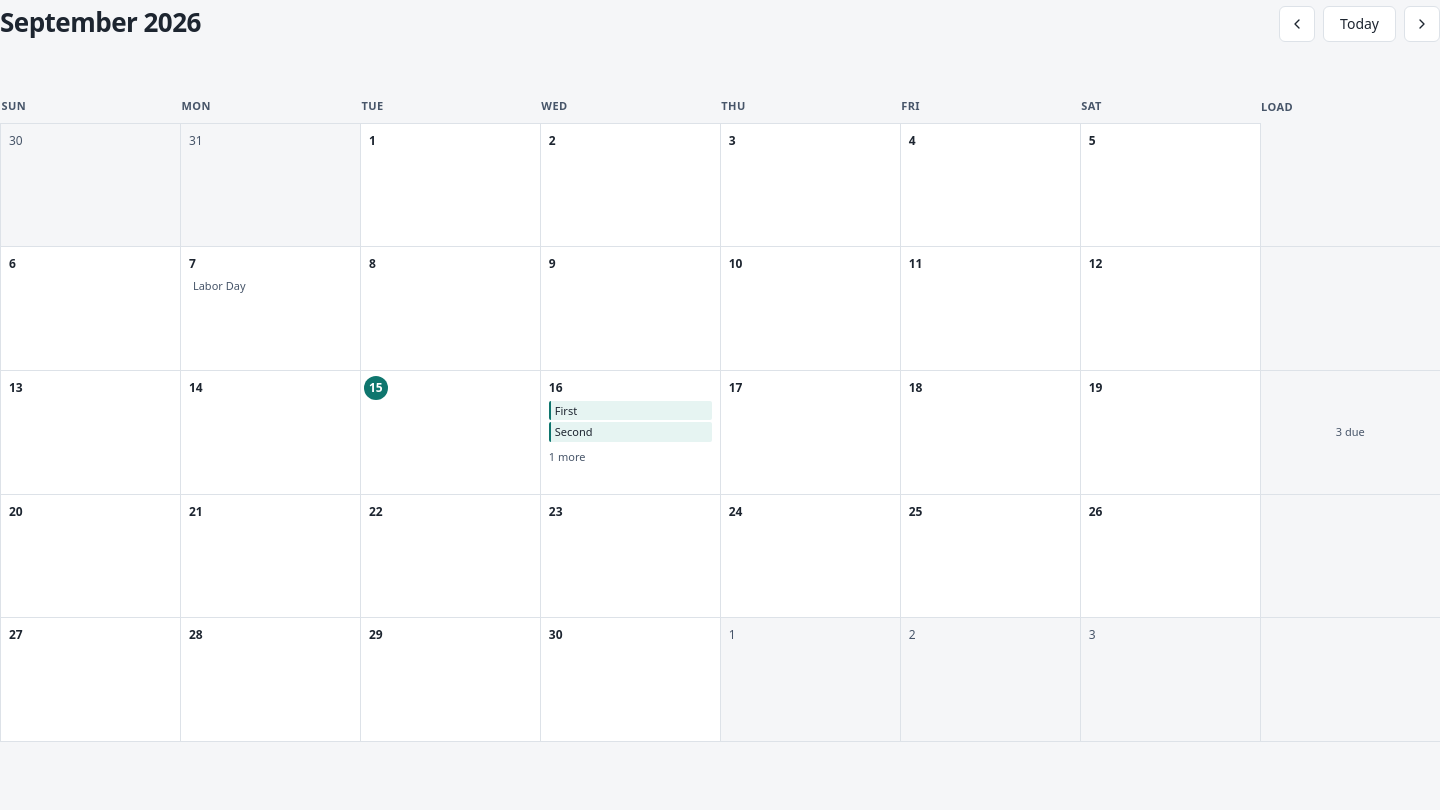
Test: AC-41.2 "more" opens the day and lists everything due on it
Click the button "1 more" at x=567, y=457, box 549,449 -> 585,465
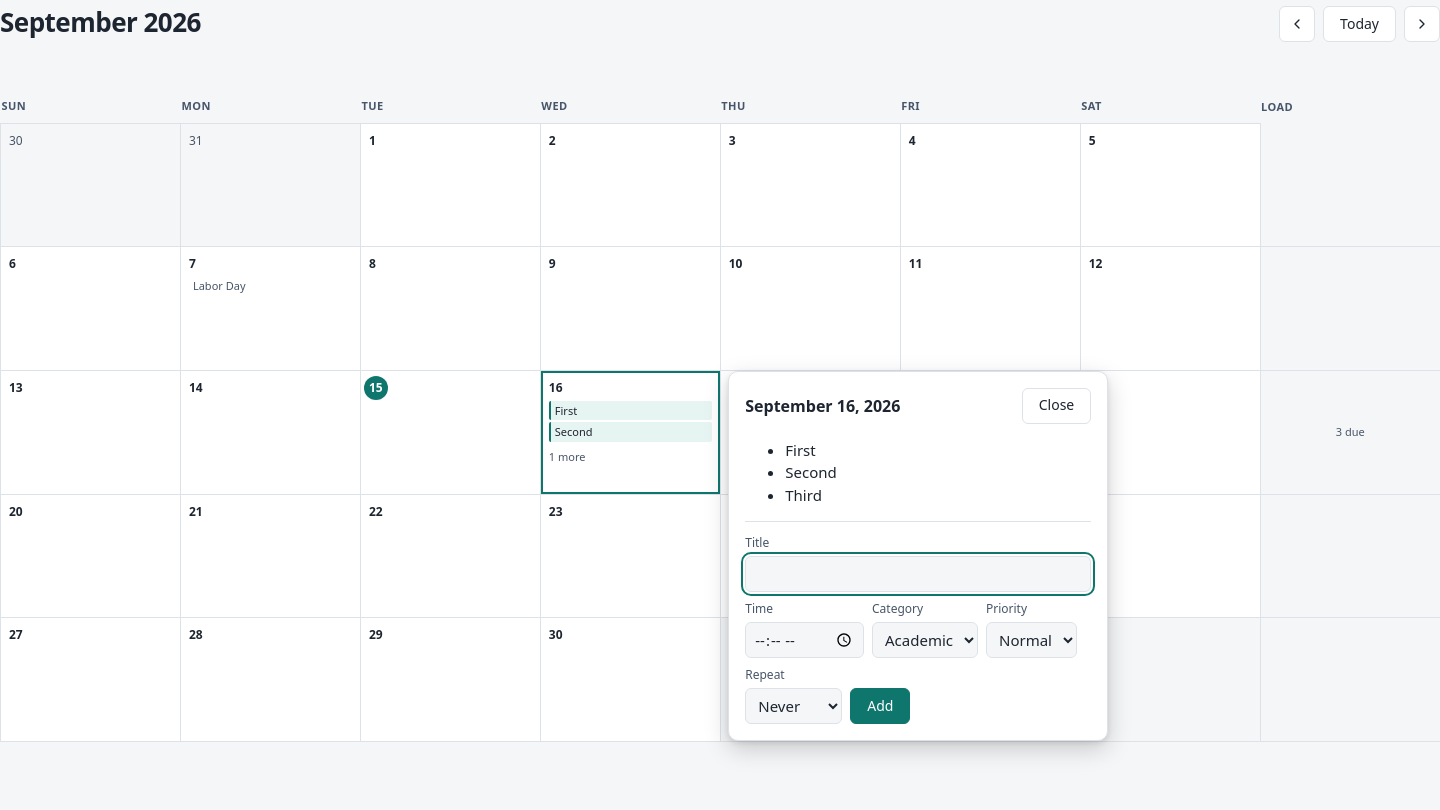
Now the list item "Third" is shown, box 785,485 -> 822,505
Now the number of list items is 3, box 785,440 -> 816,460; 785,462 -> 837,482; 785,485 -> 822,505
